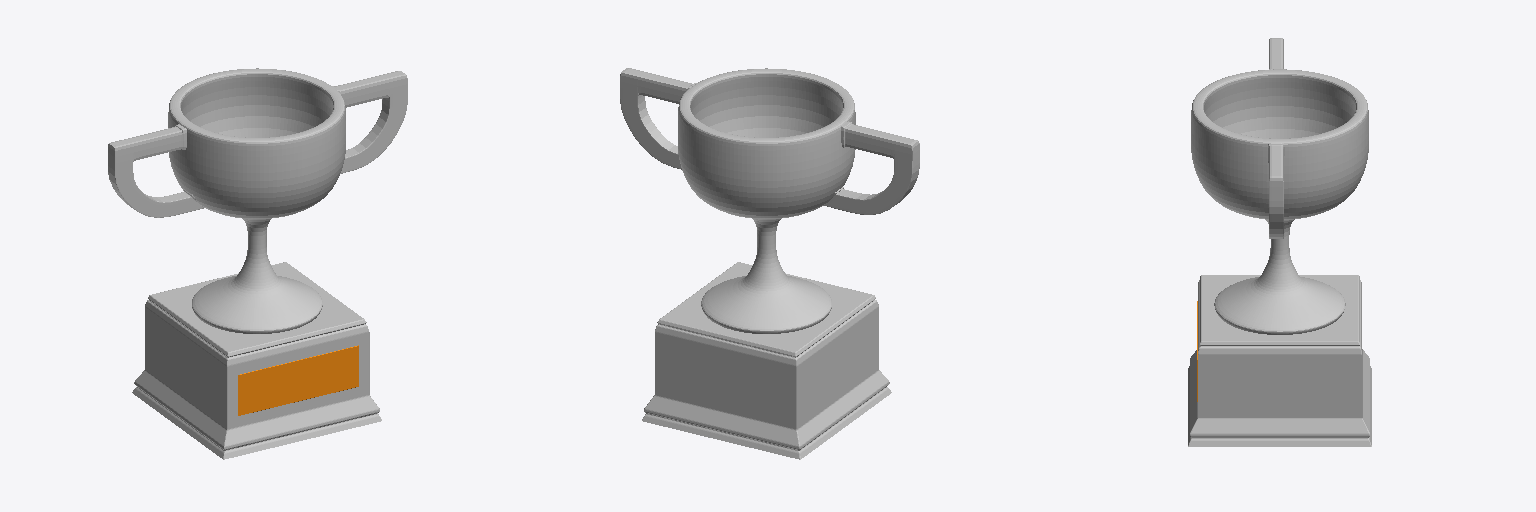
The model's file is yourewinner.obj.
3 views of the same model, side by side, from view 1: azimuth 30°, elevation 25°; view 2: azimuth 150°, elevation 25°; view 3: azimuth 270°, elevation 25° (orthographic).
Visible parts, largest first — view 1: trophy_Circle, base_Plane.001, handle_Plane; view 2: trophy_Circle, base_Plane.001, handle_Plane; view 3: trophy_Circle, base_Plane.001, handle_Plane.
Boxes of the visible parts, x1,y1,x2,y2 form: trophy_Circle: [168, 68, 345, 333]; base_Plane.001: [132, 262, 381, 459]; handle_Plane: [108, 71, 407, 217]; trophy_Circle: [678, 68, 855, 333]; base_Plane.001: [642, 262, 891, 459]; handle_Plane: [620, 68, 919, 214]; trophy_Circle: [1191, 69, 1368, 334]; base_Plane.001: [1188, 275, 1371, 446]; handle_Plane: [1268, 38, 1284, 238].
Size of the model in its own units: 5.23 by 5.15 by 2.84.